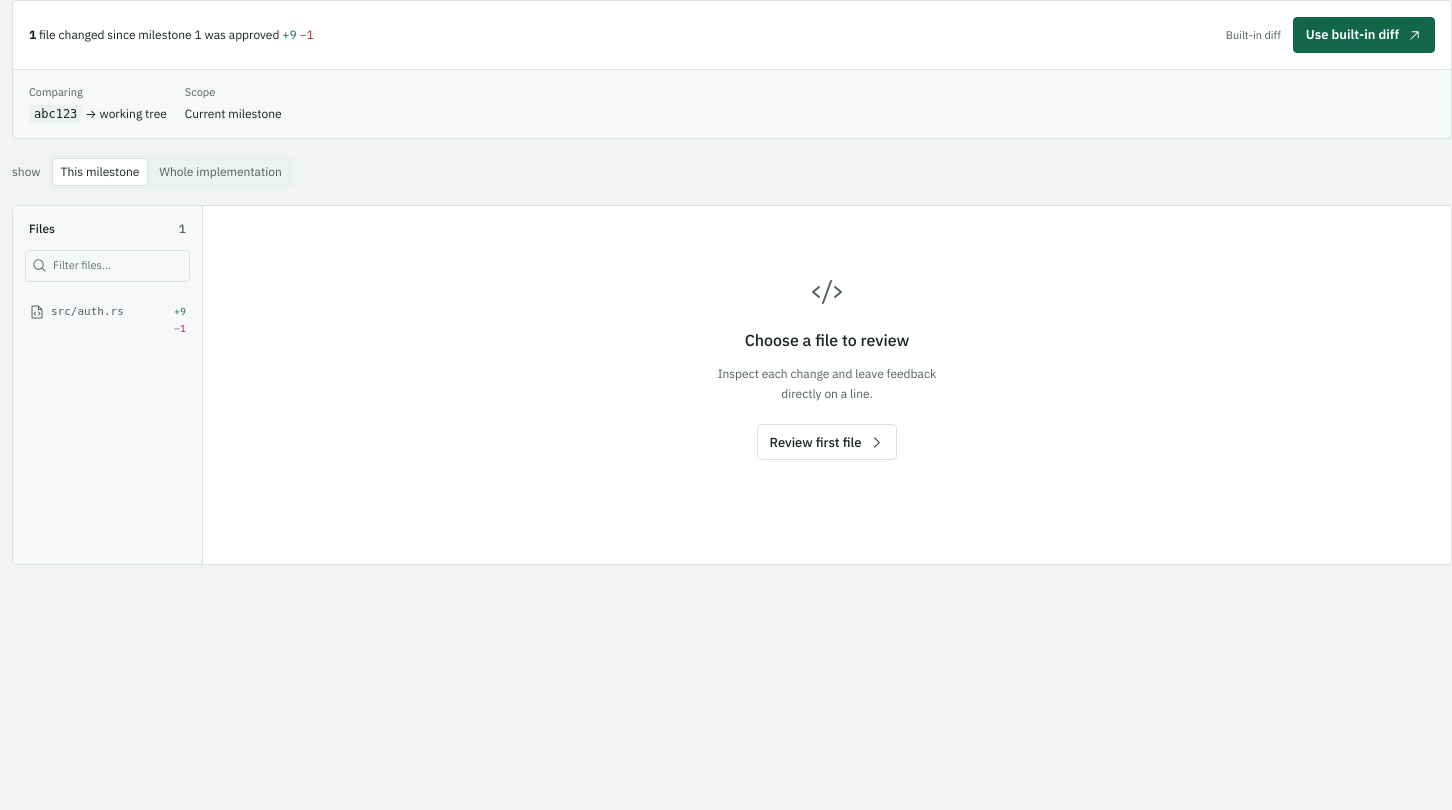
Test: built-in review opens a file without launching an external tool
Click the button "Use built-in diff" at (1364, 35), box x1=1293 y1=17 x2=1435 y2=53
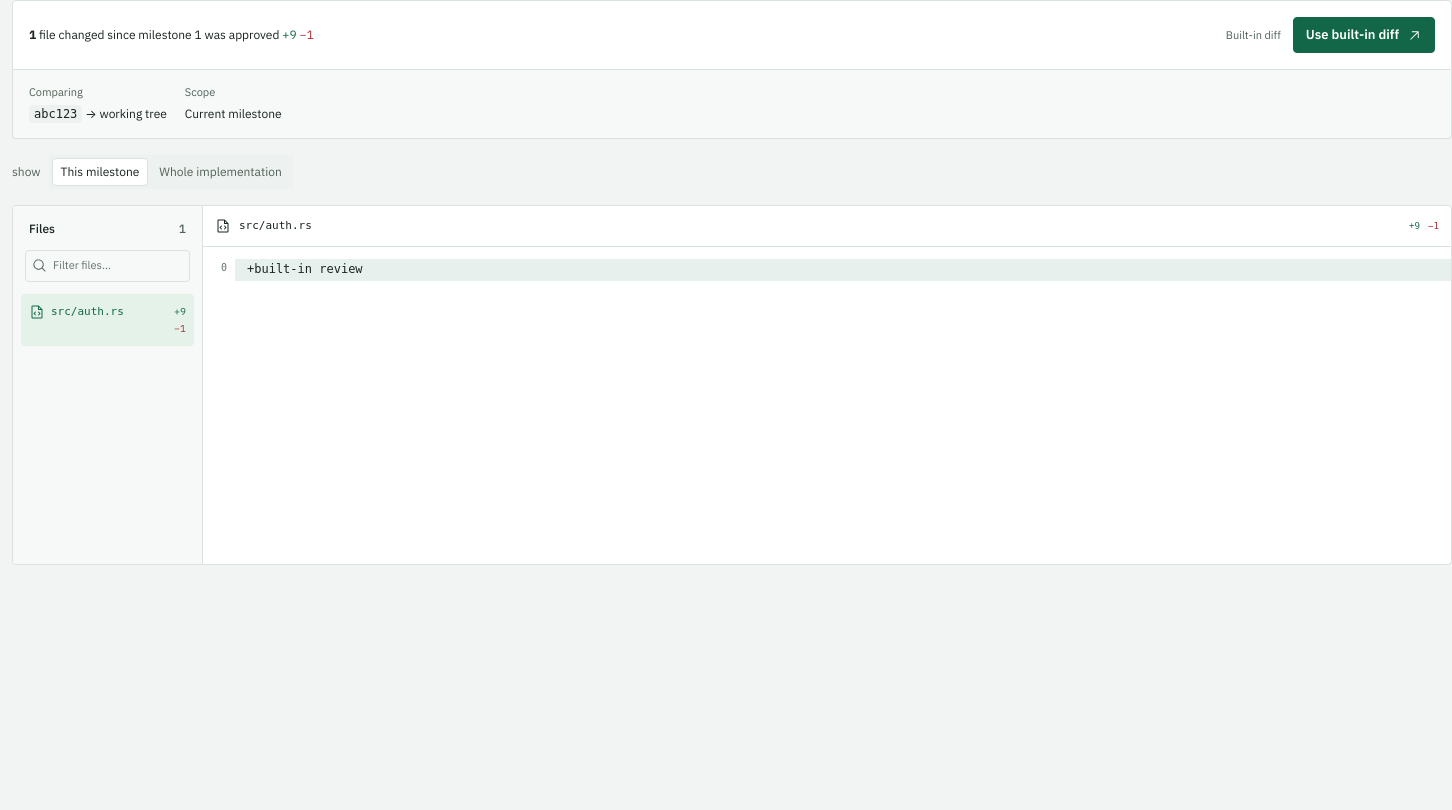
Expected: the text "+built-in review" is shown, x1=235 y1=259 x2=1451 y2=281
